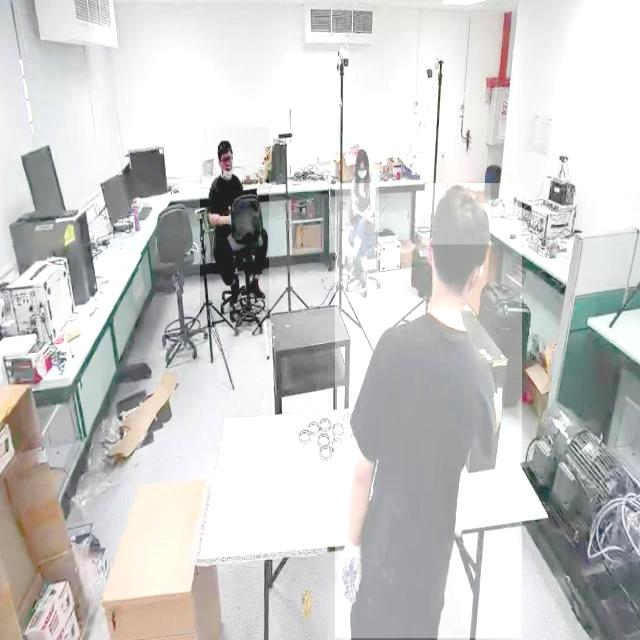face_mask: (355, 161, 369, 179)
face_nomask: (220, 150, 232, 176)
head_nohelmet: (432, 183, 491, 245), (217, 138, 233, 152), (356, 146, 370, 162)
person: (334, 183, 522, 639), (199, 127, 269, 328), (343, 142, 379, 302)
shoes: (247, 277, 268, 303), (357, 266, 371, 294), (343, 254, 357, 280)
